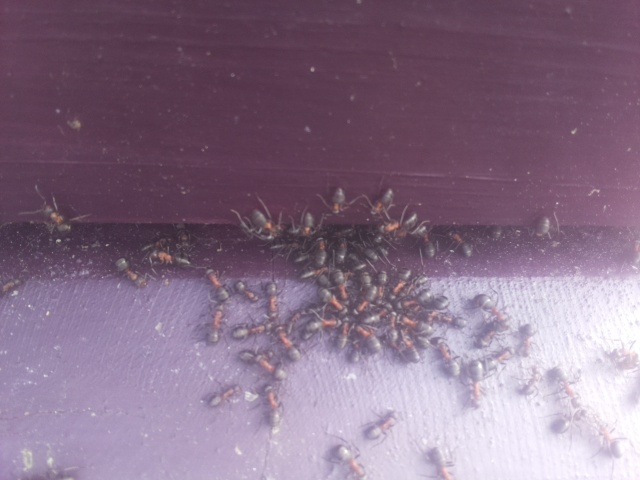ant: (372, 207, 434, 254), (231, 343, 293, 387), (36, 191, 76, 244), (198, 260, 236, 313), (241, 202, 290, 243), (107, 252, 152, 294), (328, 438, 371, 480), (360, 405, 404, 446), (468, 290, 513, 329), (432, 333, 467, 381), (227, 314, 288, 341), (261, 377, 289, 435), (590, 420, 629, 461), (348, 321, 386, 362), (408, 215, 441, 262), (387, 324, 422, 366), (273, 319, 304, 366), (146, 242, 195, 270), (201, 303, 229, 350), (463, 360, 488, 412), (200, 383, 242, 412), (444, 224, 476, 262), (421, 446, 456, 480), (282, 208, 319, 240), (315, 283, 350, 313), (511, 323, 539, 356), (231, 277, 261, 306), (261, 280, 283, 319), (516, 367, 541, 397), (328, 182, 352, 213), (303, 316, 341, 335)
